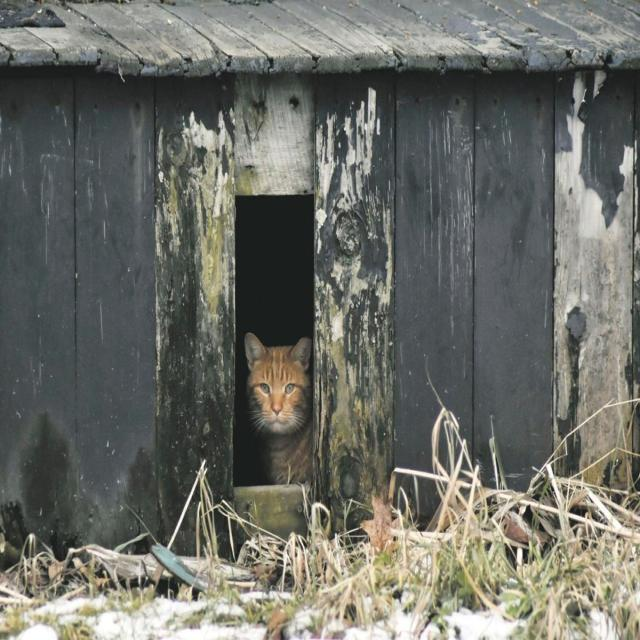cat: (245, 333, 312, 484)
